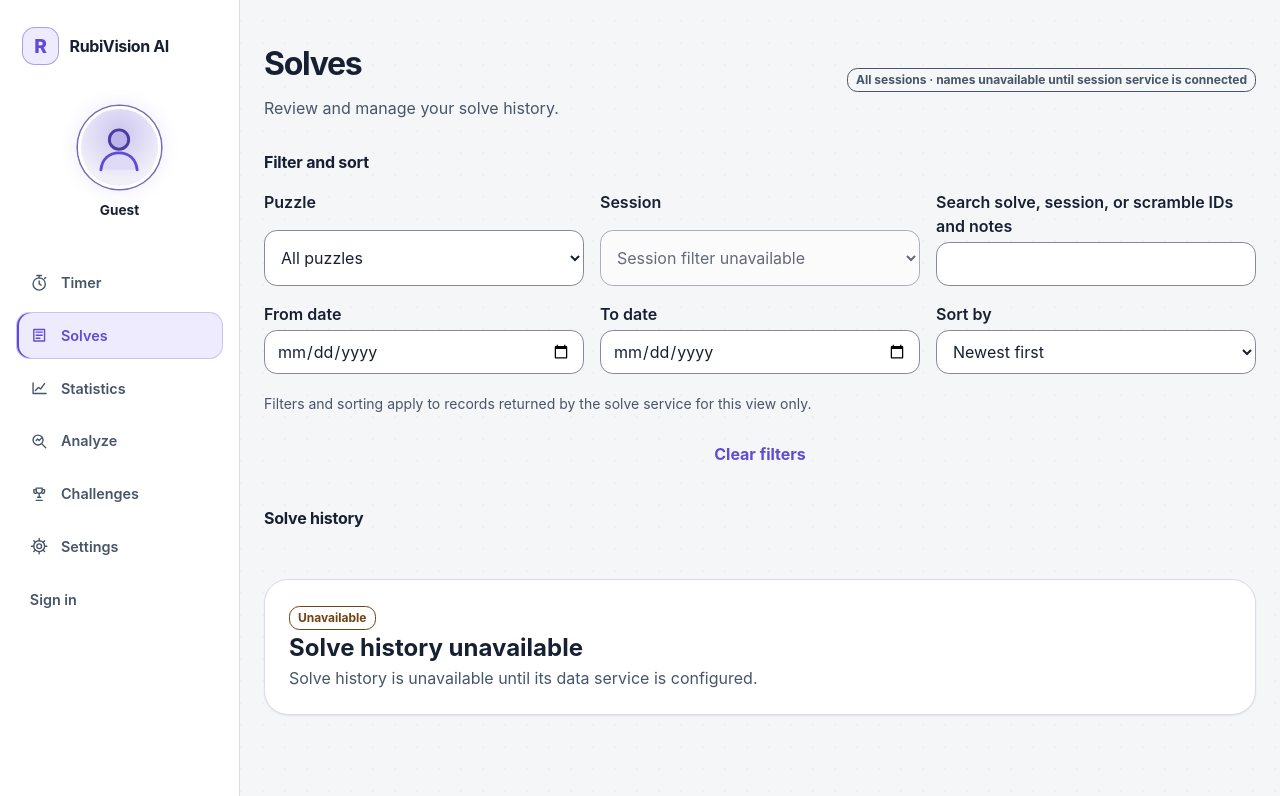
Test: Statistics page shell › supports route navigation between Solves and Statistics
Click the link "Statistics" at point(78, 388), box x1=30 y1=379 x2=126 y2=398
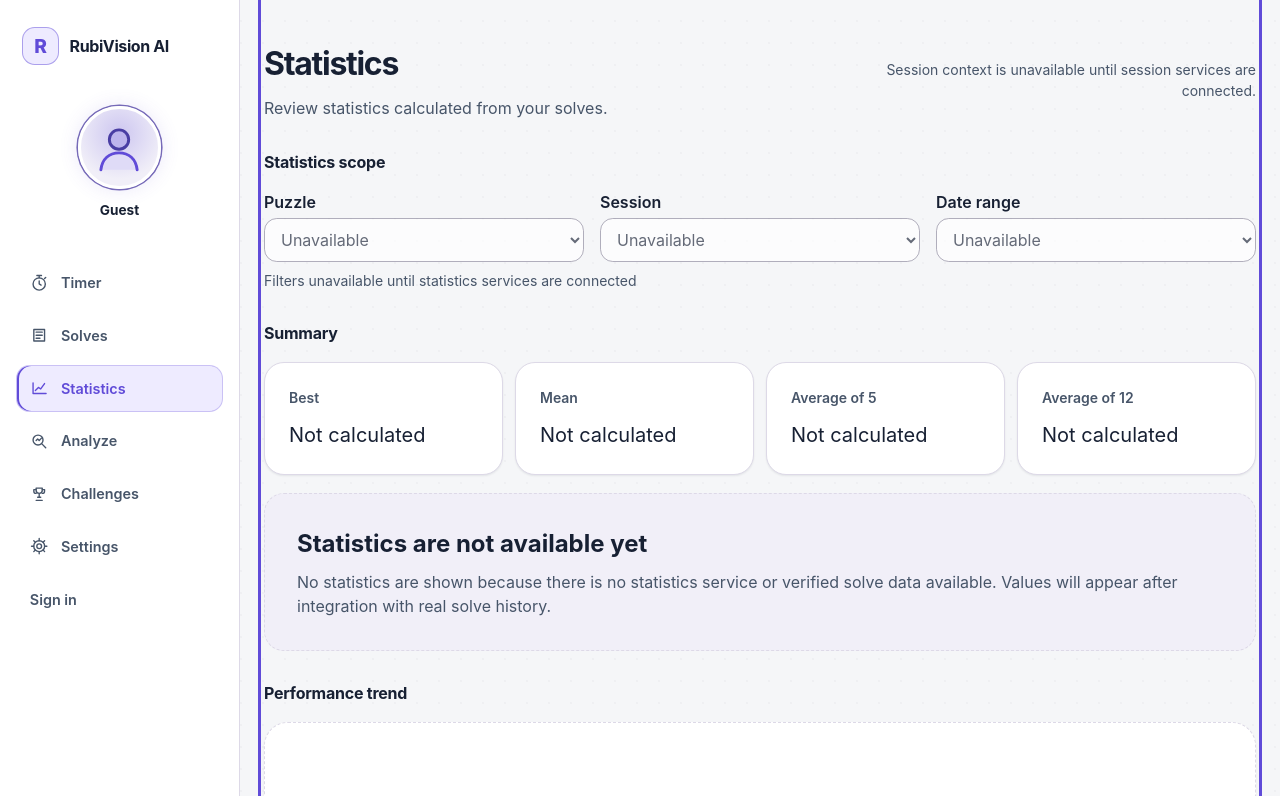
Check: the heading "Statistics" is shown, box x1=264 y1=44 x2=398 y2=83
